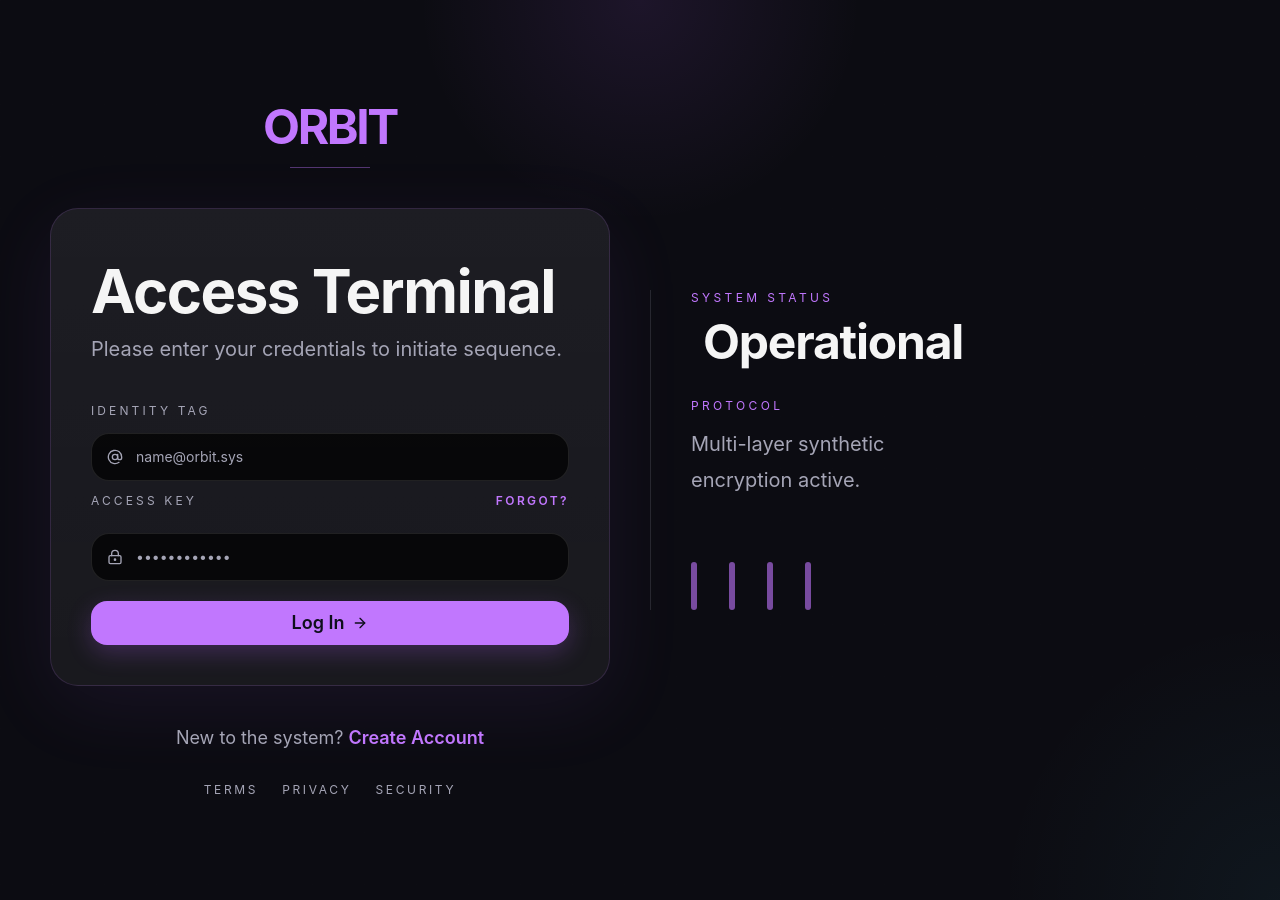
Test: Orbit auth routing › shows an error for invalid mock credentials
The width and height of the screenshot is (1280, 900).
Type "wrong@orbit.dev" into the field named "email" at (330, 456), box 91,432 -> 569,480
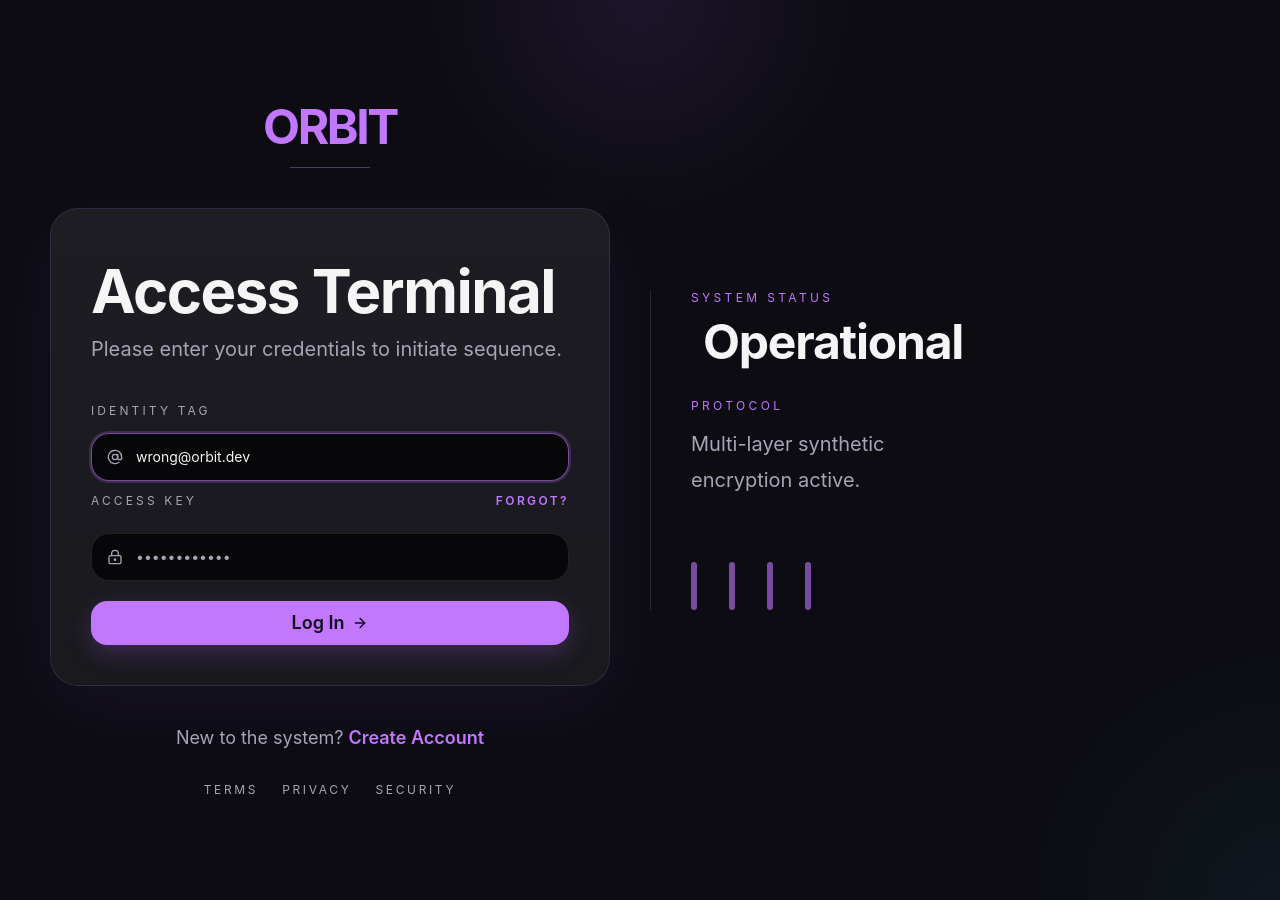
Type "invalid" into the password field named "password" at (330, 556), box 91,532 -> 569,580
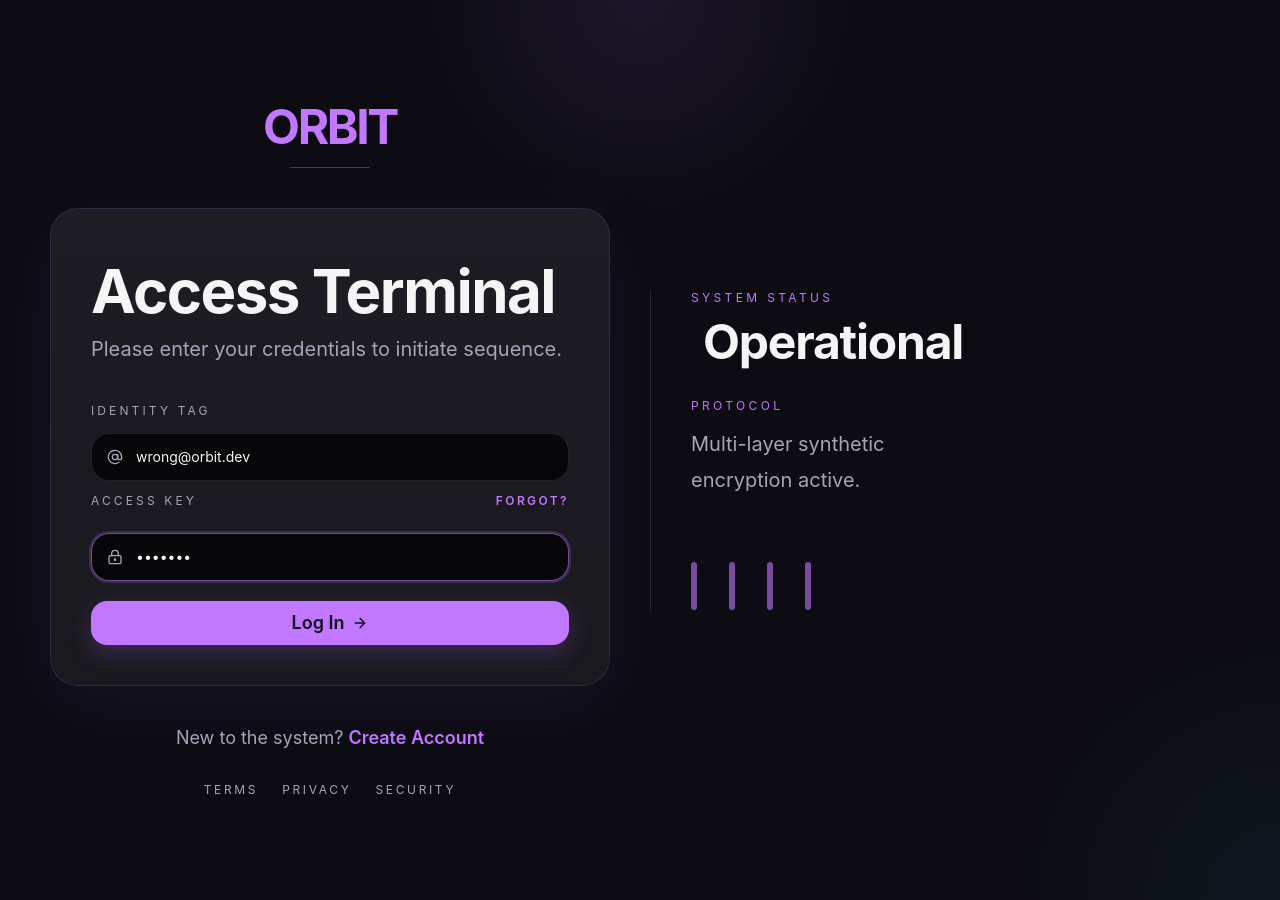
Click the button with aria-label "continue to orbit" at (330, 622), box 91,600 -> 569,644
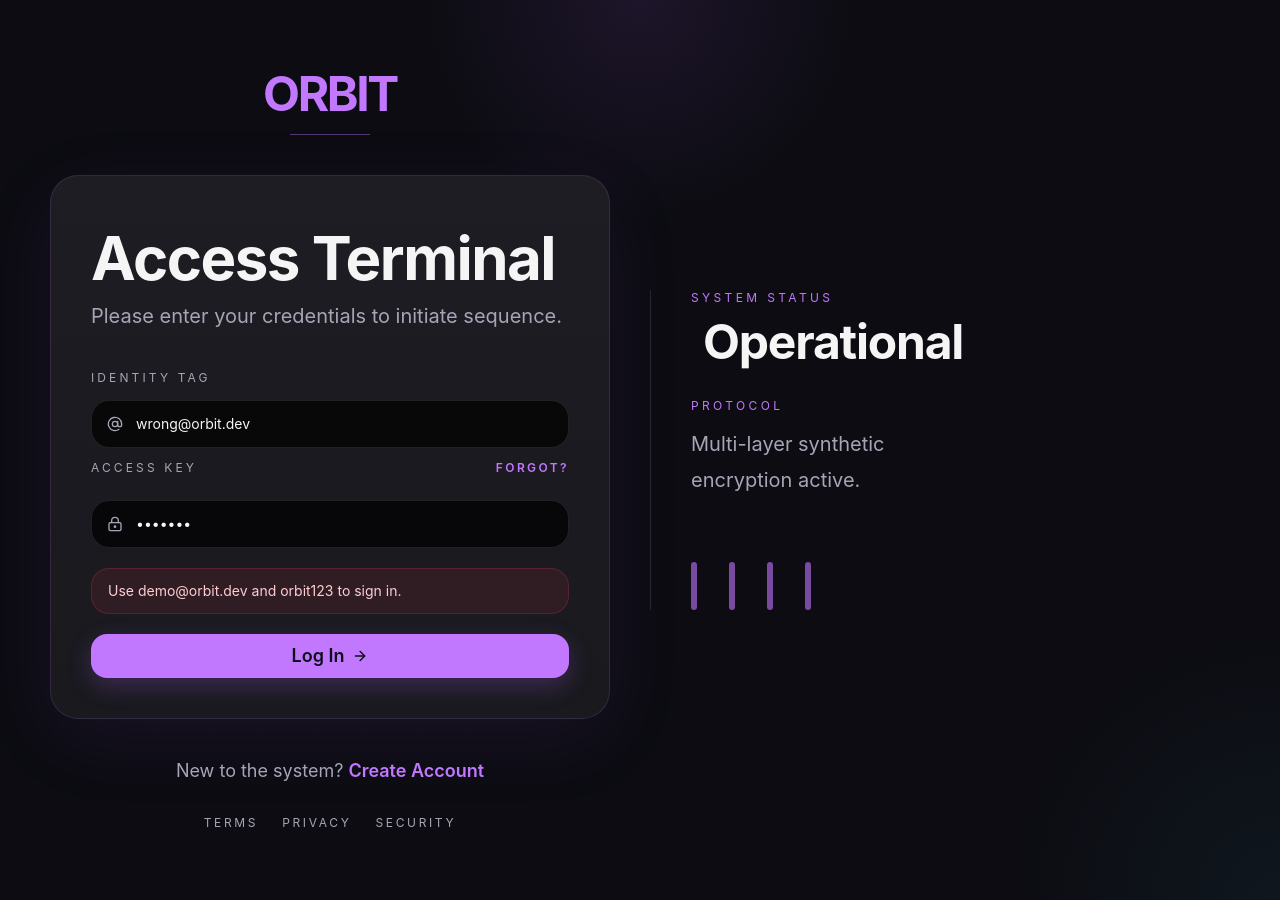
Expected: the text "Use demo@orbit.dev and orbit123 to sign in." is shown, 108,582 -> 402,598
